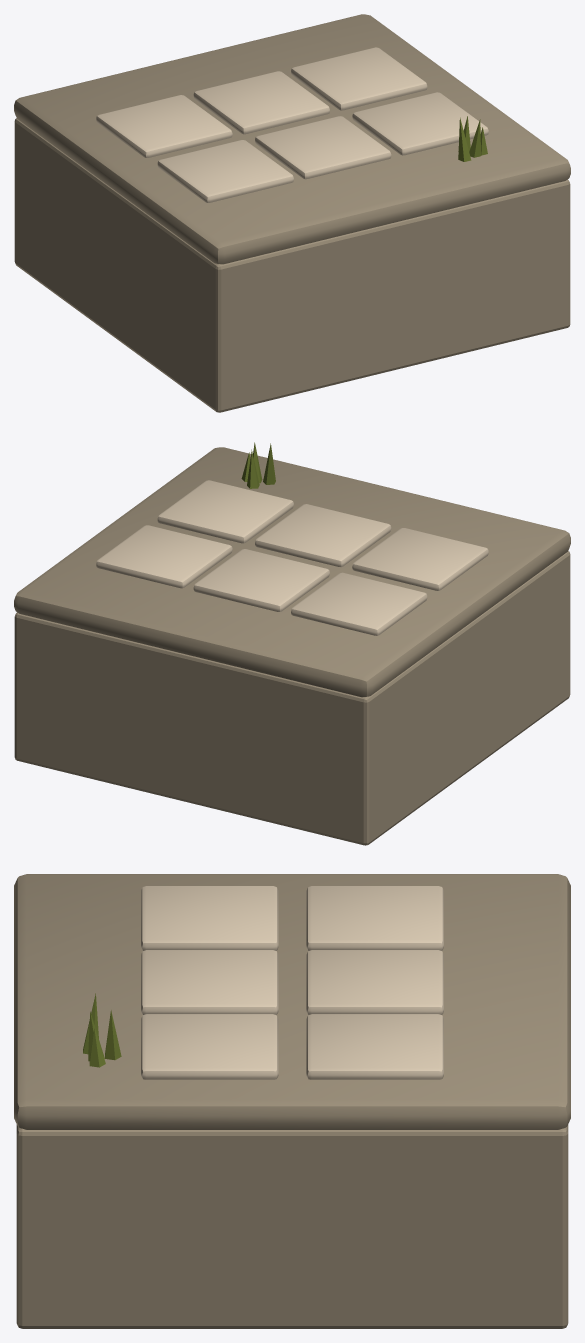
File: tile_stone_road.glb
The picture shows the model from 3 angles, top to bottom: view 1: azimuth 30°, elevation 25°; view 2: azimuth 150°, elevation 25°; view 3: azimuth 270°, elevation 25°; orthographic projection. The views are drawn at different scales.
Visible parts, largest first — view 1: ro_body, ro_cap, ro_s01, ro_s21, ro_s10, ro_s00, ro_s11, ro_s20; view 2: ro_body, ro_cap, ro_s20, ro_s21, ro_s01, ro_s00, ro_s11, ro_s10; view 3: ro_body, ro_cap, ro_s20, ro_s21, ro_s10, ro_s11, ro_s00, ro_s01.
Boxes of the visible parts, x1,y1,x2,y2 form: ro_body: [14, 118, 570, 412]; ro_cap: [14, 14, 570, 264]; ro_s01: [96, 95, 232, 157]; ro_s21: [291, 47, 427, 110]; ro_s10: [255, 116, 391, 179]; ro_s00: [157, 140, 293, 202]; ro_s11: [193, 71, 329, 134]; ro_s20: [352, 92, 488, 155]; ro_body: [14, 551, 570, 845]; ro_cap: [14, 447, 570, 697]; ro_s20: [157, 480, 293, 543]; ro_s21: [96, 525, 232, 588]; ro_s01: [291, 572, 427, 635]; ro_s00: [352, 528, 488, 590]; ro_s11: [193, 549, 329, 611]; ro_s10: [255, 504, 391, 566]; ro_body: [16, 1124, 568, 1328]; ro_cap: [14, 874, 570, 1129]; ro_s20: [141, 1014, 278, 1079]; ro_s21: [306, 1014, 443, 1079]; ro_s10: [141, 950, 278, 1014]; ro_s11: [306, 950, 443, 1014]; ro_s00: [141, 886, 278, 950]; ro_s01: [306, 886, 443, 950].
Size of the model in its own units: 2.02 by 1.14 by 2.02.
